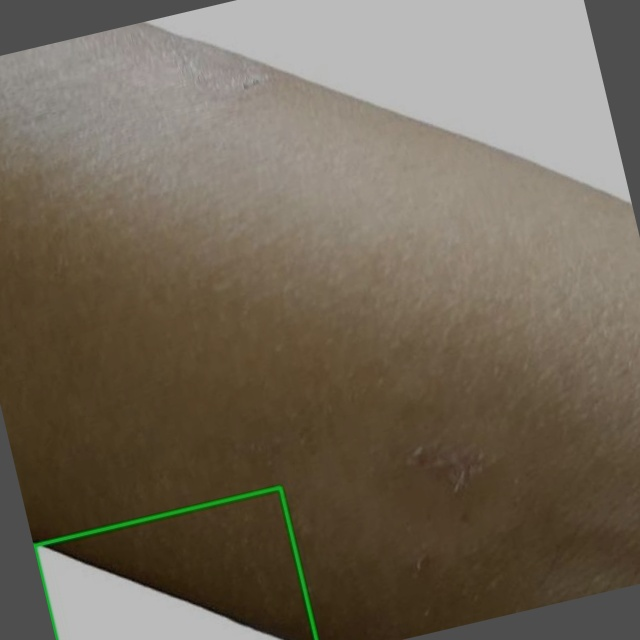Tinea Corporis: (34, 487, 316, 639)
